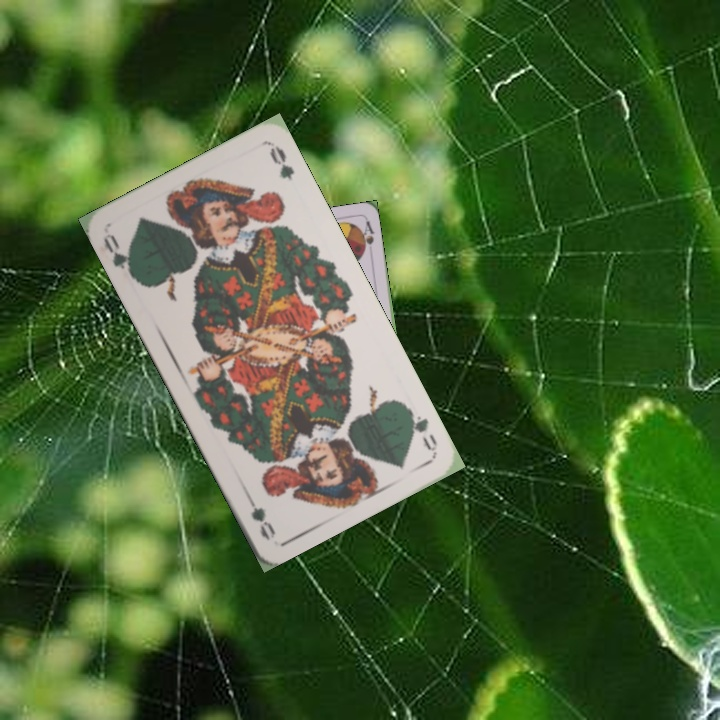GO: (99, 230, 140, 283), (401, 402, 440, 454)
